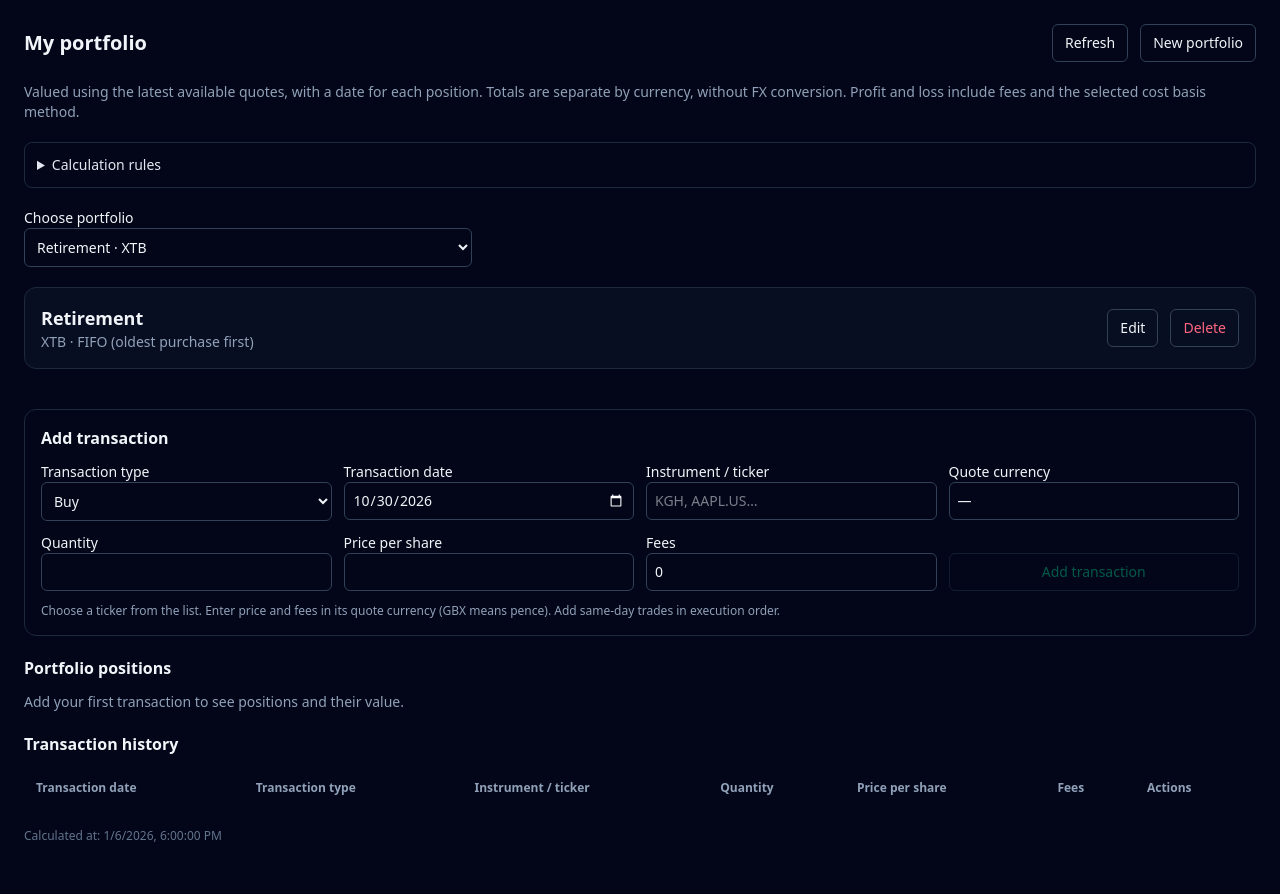
it: account portfolios › retains the form and transaction ID after an uncertain network result
The width and height of the screenshot is (1280, 894).
Type "kgh" into the field labelled "Instrument / ticker". click: (791, 501)
box: [646,482,936,520]
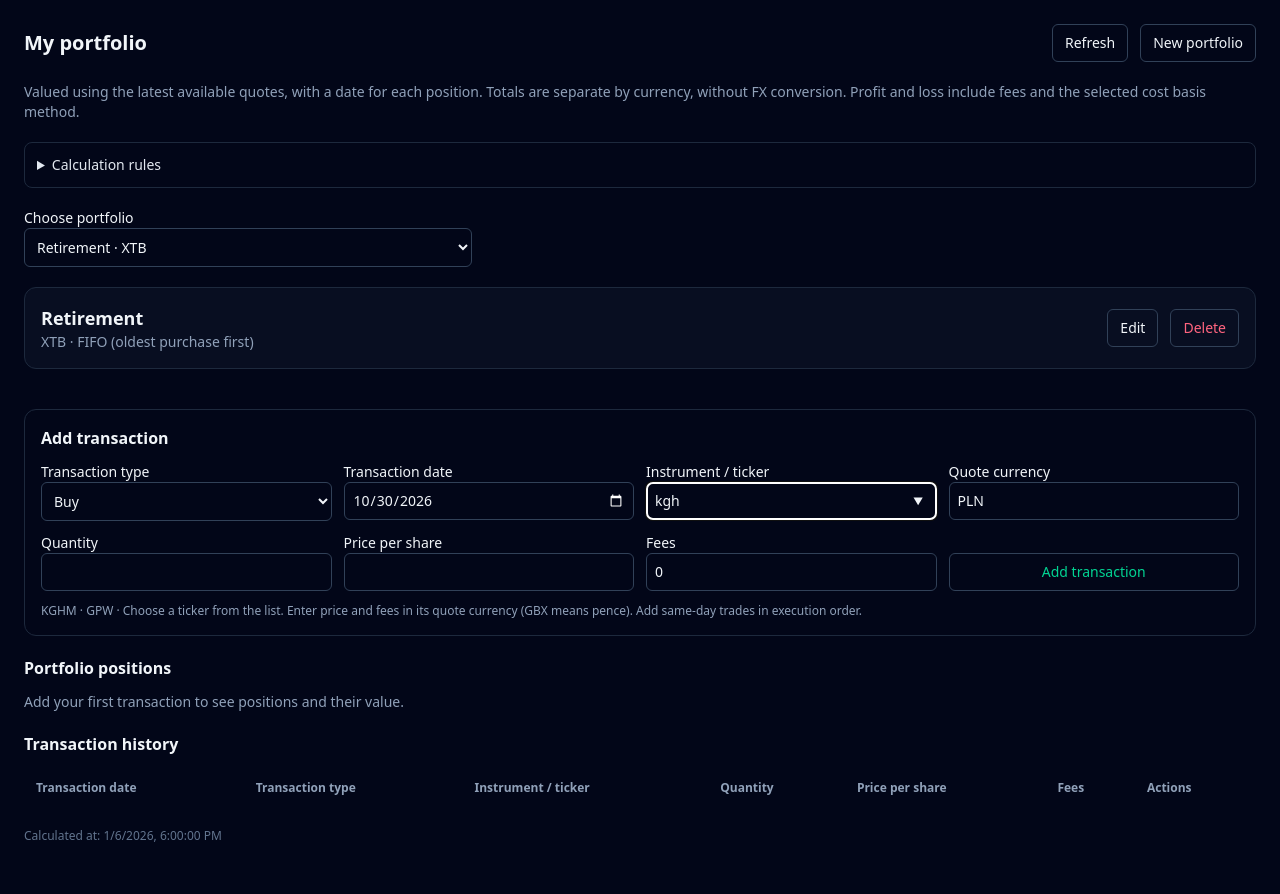
Type "2" into the number field labelled "Quantity". click: (186, 572)
box: [41,553,332,591]
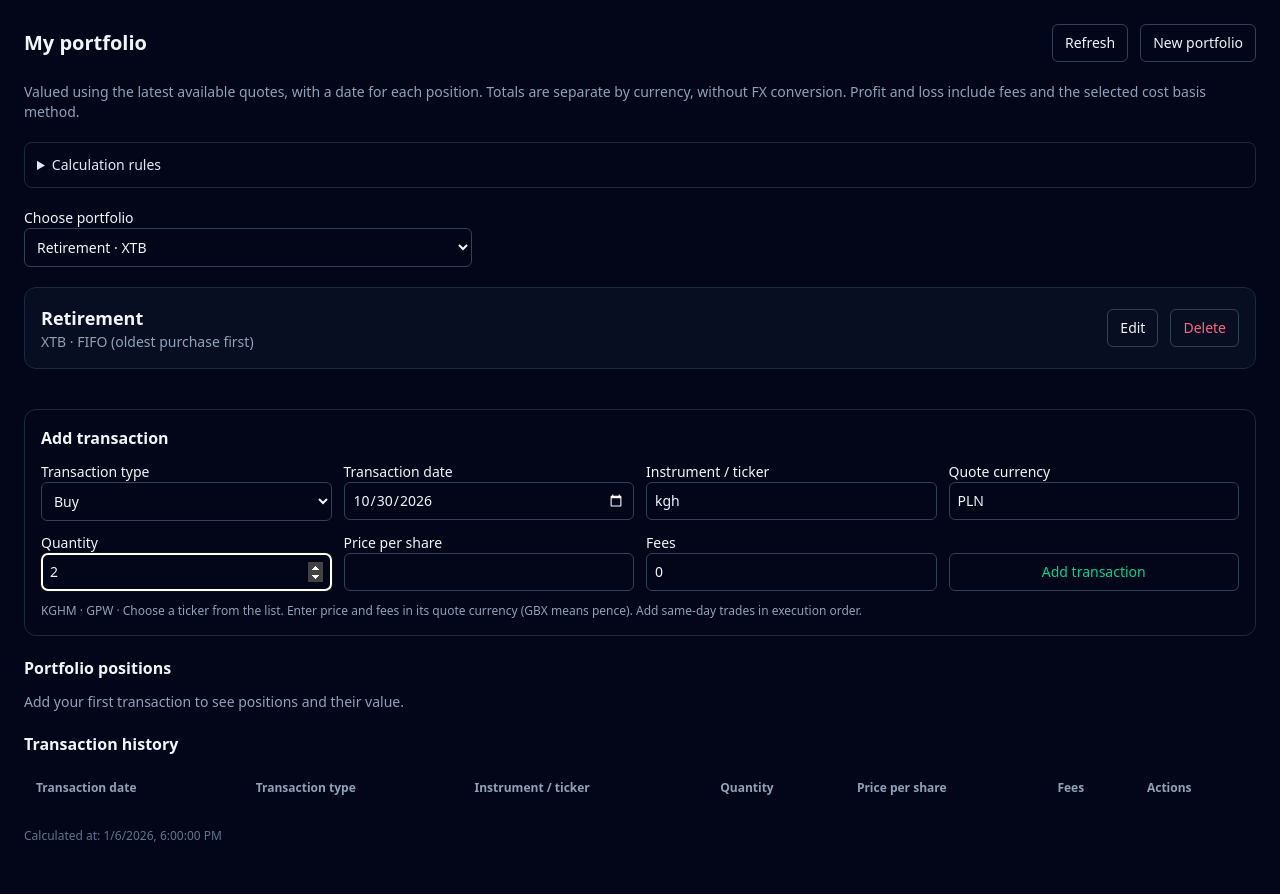
Type "100" into the number field labelled "Price per share". click: (489, 572)
box: [344,553,634,591]
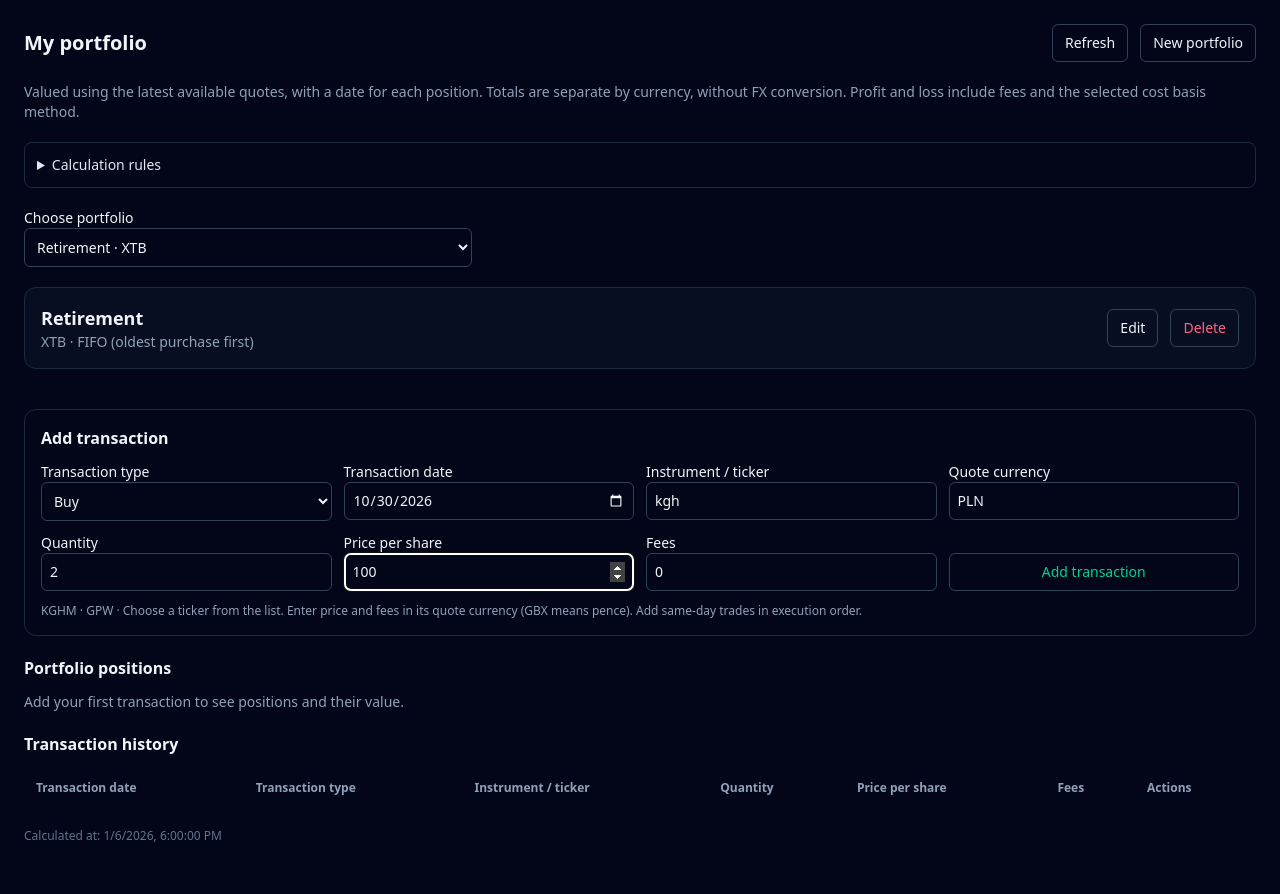
Click the button "Add transaction". click: (1094, 572)
box: [948,553,1239,591]
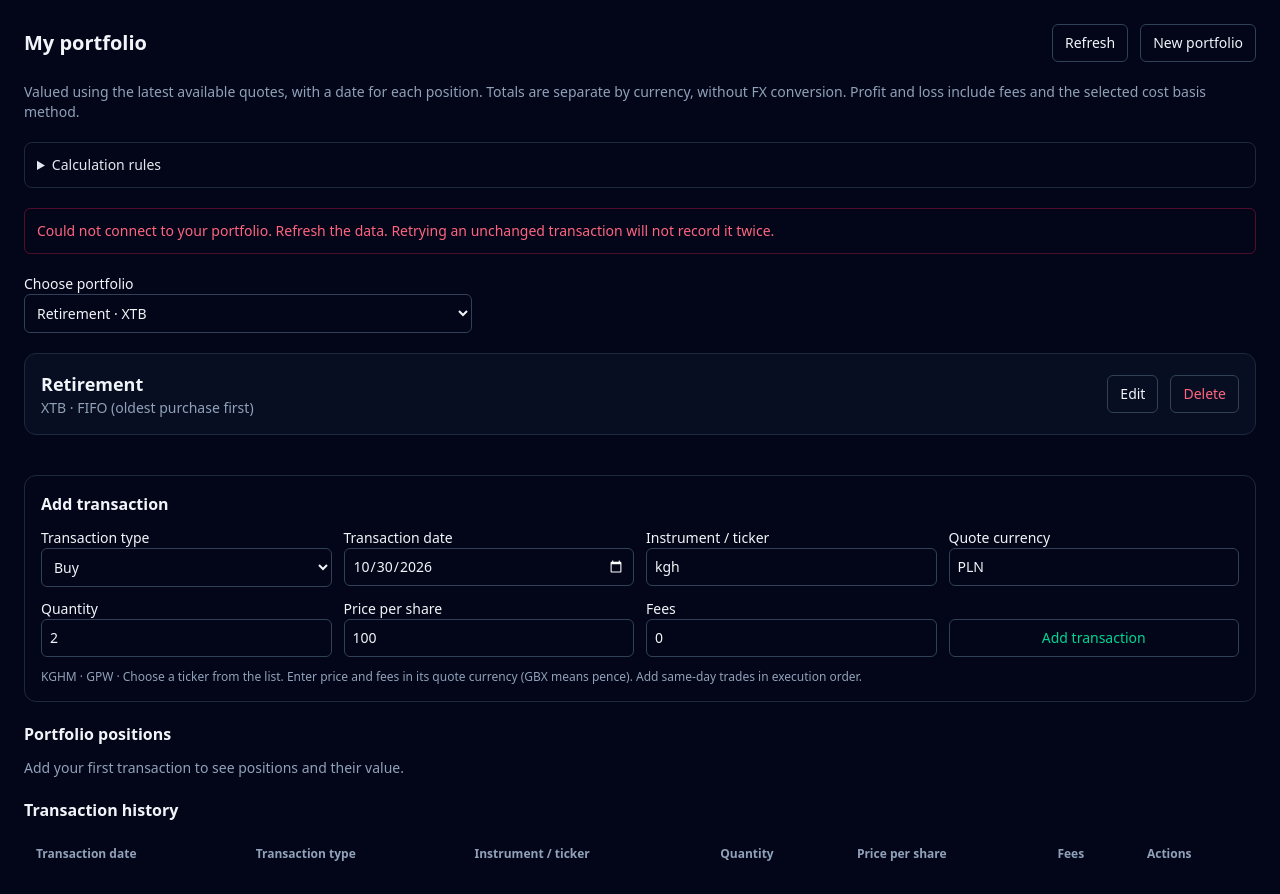
Expected: the text "Changes saved." is not shown
Result: the message is shown at [24,208,1256,254]
Click the button "Add transaction". click: (1094, 638)
box: [948,619,1239,657]
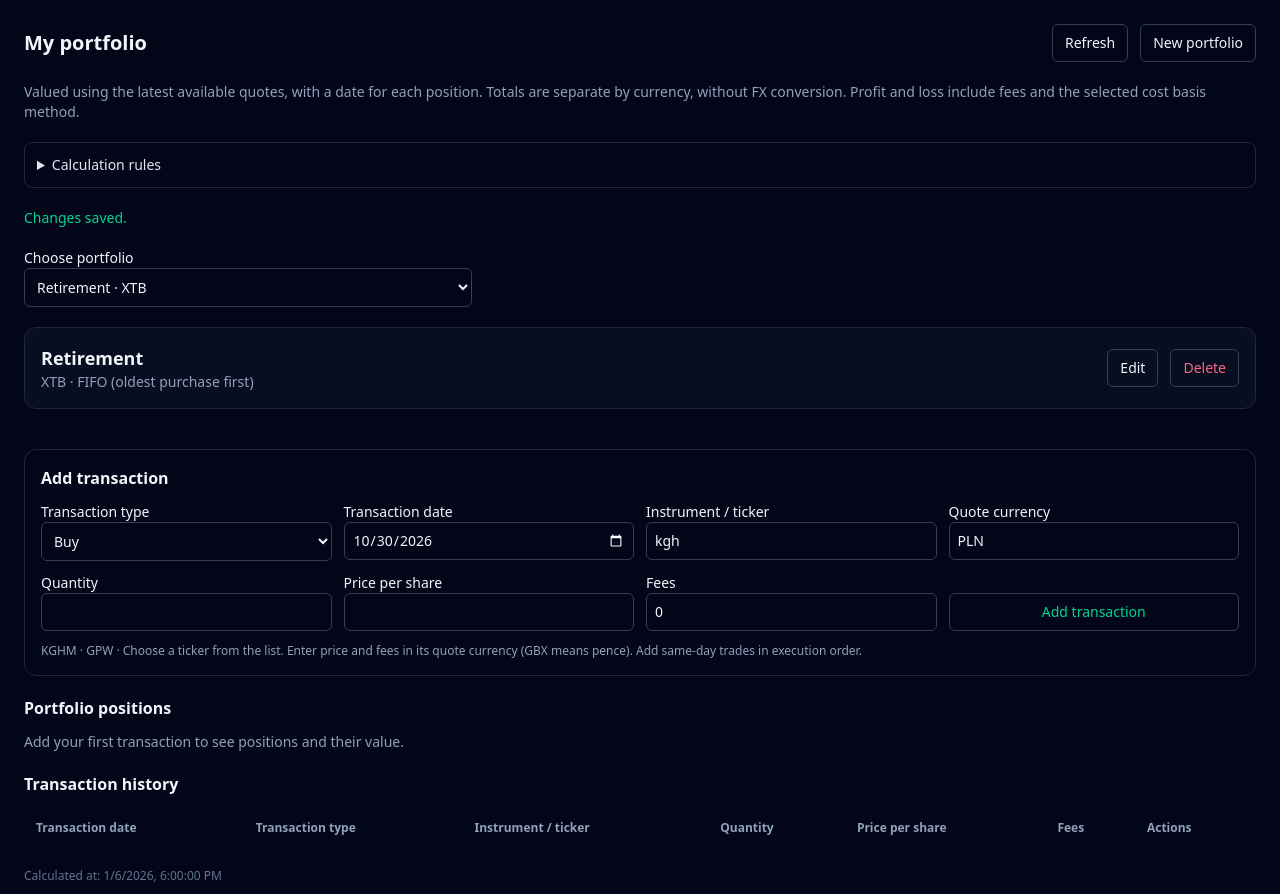
Result: the text "Changes saved." is shown at [24,208,127,227]
